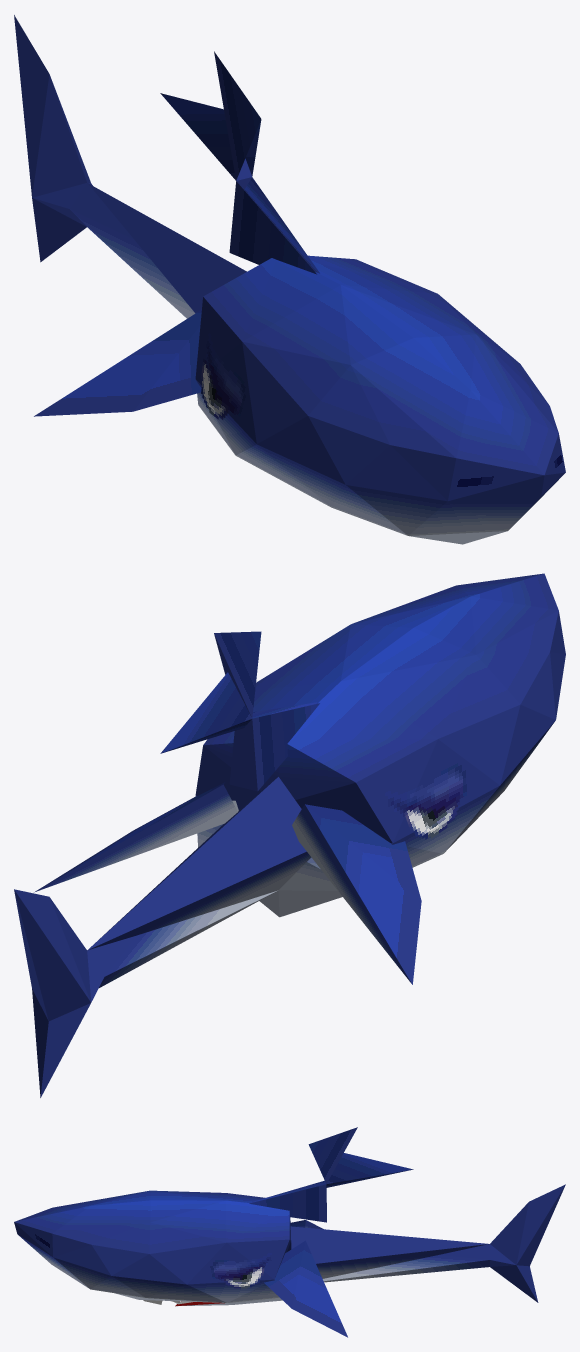
The model's file is hojiro.glb.
3 views of the same model, one above another, from view 1: azimuth 30°, elevation 25°; view 2: azimuth 150°, elevation 25°; view 3: azimuth 270°, elevation 25° (orthographic). The views are drawn at different scales.
Visible parts, largest first — view 1: hojiro; view 2: hojiro; view 3: hojiro.
Part boxes in pixels (box(x1,y1,x2,y2)): hojiro: box(14, 15, 565, 544); hojiro: box(14, 573, 565, 1097); hojiro: box(14, 1127, 565, 1337).
Size of the model in its own units: 27.46 by 24.11 by 66.51.
3 materials, 3 textured.
